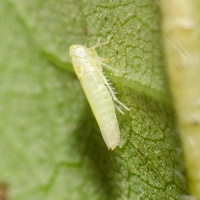insect: (70, 36, 129, 149)
